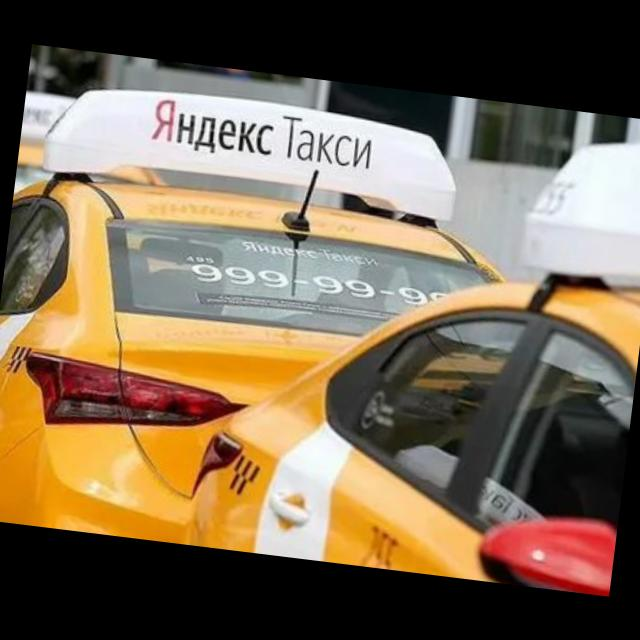taxi: (1, 71, 527, 580), (182, 86, 640, 596)
